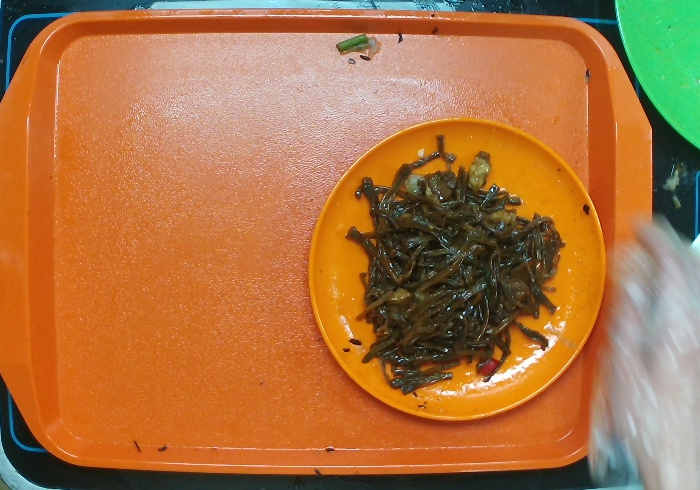HZYJPL-Ju_Huang_Yuan_Pan: (301, 111, 609, 431)
